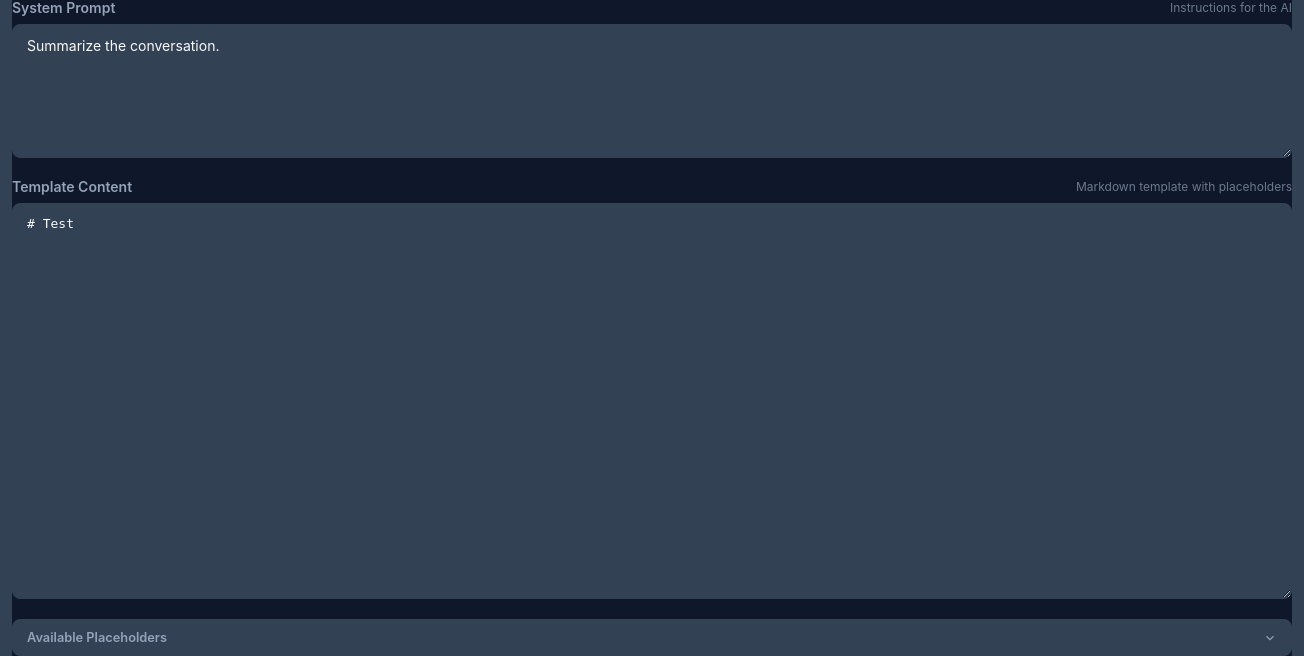
TemplateEditor Component › Placeholder reference › should show placeholder items when open
The width and height of the screenshot is (1304, 656).
(page scrolled)
Click the element with class "ref-header": (97, 638) x1=27 y1=630 x2=1277 y2=645
(page scrolled)
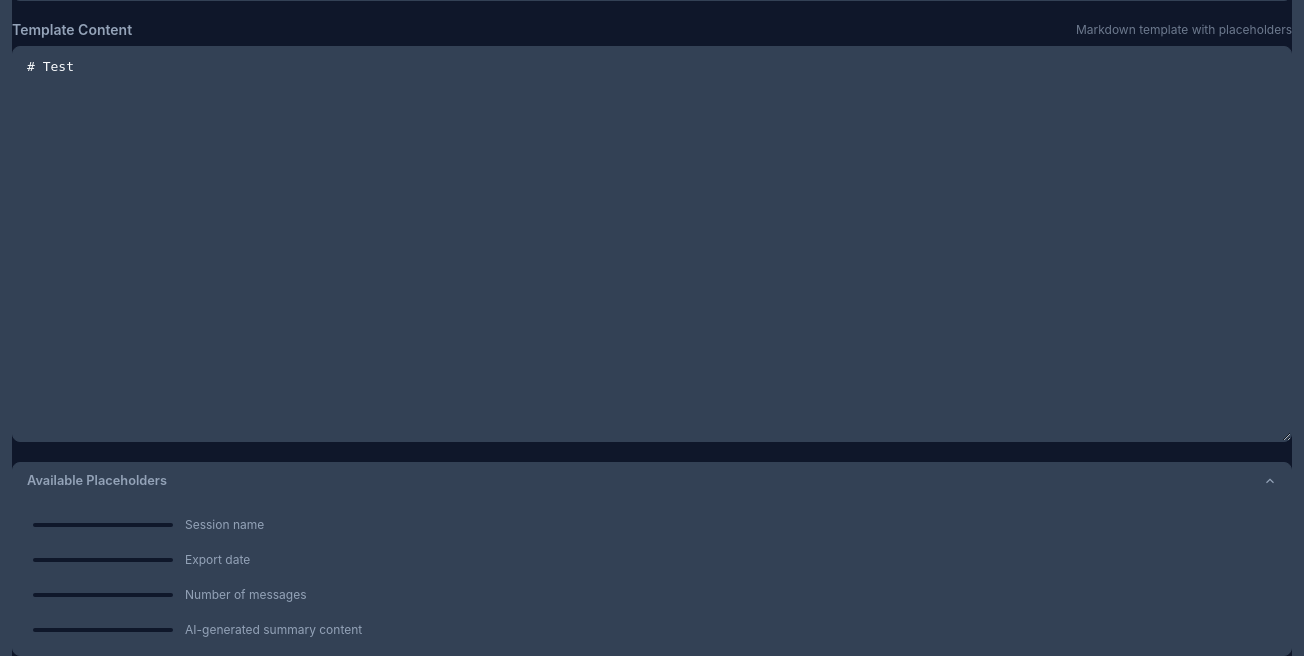
Check: the element with class "ref-item" showing "Session name" is shown, box x1=33 y1=517 x2=264 y2=532
